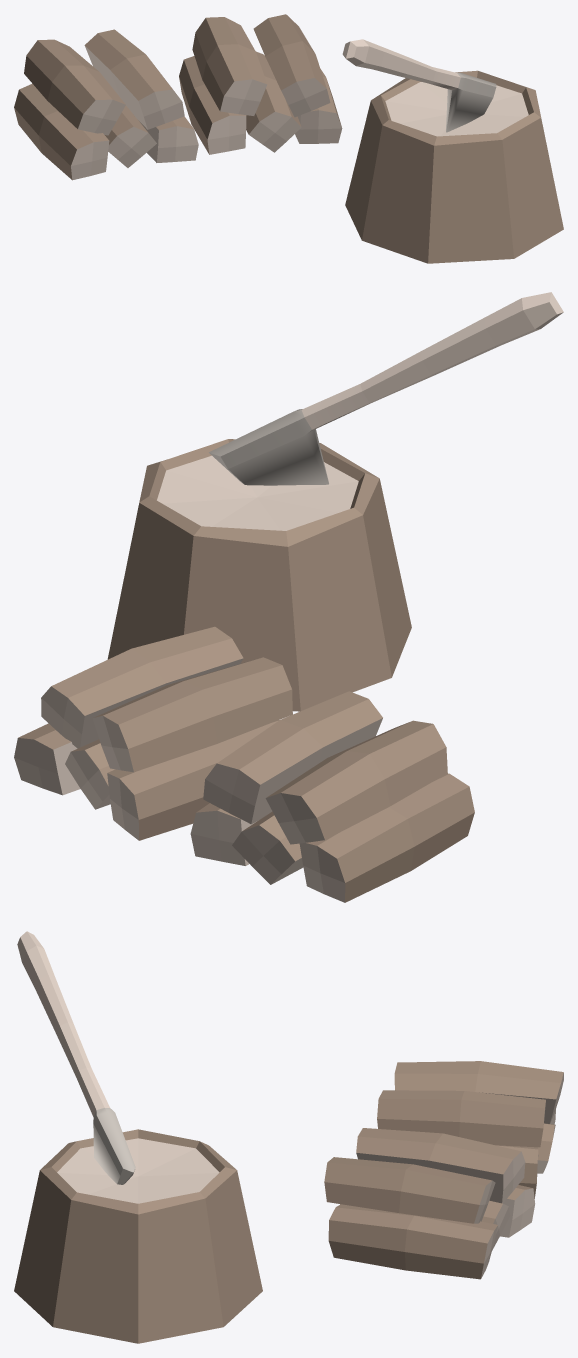
File: fireWoodPile.fbx
3 views of the same model, one above another, from view 1: azimuth 30°, elevation 25°; view 2: azimuth 150°, elevation 25°; view 3: azimuth 270°, elevation 25° (orthographic). The views are drawn at different scales.
Visible parts, largest first — view 1: pCylinder48, pasted__pCube13, pasted__pCube19, pasted__pCube16, pasted__pCube14, pasted__handle3, pasted__pCube22, pasted__pCube18, pasted__pCube20, pasted__pCube17, pasted__pCube15, pasted__pCube21; view 2: pCylinder48, pasted__handle3, pasted__pCube19, pasted__pCube13, pasted__pCube14, pasted__pCube16, pasted__pCube22, pasted__pCube18, pasted__pCube21, pasted__pCube15, pasted__pCube17, pasted__pCube20; view 3: pCylinder48, pasted__pCube21, pasted__pCube22, pasted__pCube16, pasted__handle3, pasted__pCube19, pasted__pCube13, pasted__pCube18, pasted__pCube17, pasted__pCube20, pasted__pCube15.
Part boxes in pixels (<box>): pCylinder48: <box>345,70,563,263</box>; pasted__pCube13: <box>24,39,125,135</box>; pasted__pCube19: <box>192,17,267,115</box>; pasted__pCube16: <box>84,29,184,129</box>; pasted__pCube14: <box>14,83,109,180</box>; pasted__handle3: <box>342,39,496,132</box>; pasted__pCube22: <box>253,14,330,117</box>; pasted__pCube18: <box>179,56,246,154</box>; pasted__pCube20: <box>246,51,301,152</box>; pasted__pCube17: <box>140,116,198,162</box>; pasted__pCube15: <box>105,105,156,167</box>; pasted__pCube21: <box>295,69,342,143</box>; pCylinder48: <box>107,439,411,711</box>; pasted__handle3: <box>209,292,563,485</box>; pasted__pCube19: <box>92,657,292,772</box>; pasted__pCube13: <box>265,720,447,844</box>; pasted__pCube14: <box>299,773,474,902</box>; pasted__pCube16: <box>203,691,382,824</box>; pasted__pCube22: <box>41,626,243,748</box>; pasted__pCube18: <box>107,720,279,840</box>; pasted__pCube21: <box>14,723,80,795</box>; pasted__pCube15: <box>232,811,303,884</box>; pasted__pCube17: <box>190,803,256,865</box>; pasted__pCube20: <box>65,739,114,809</box>; pCylinder48: <box>14,1129,262,1343</box>; pasted__pCube21: <box>328,1204,497,1279</box>; pasted__pCube22: <box>324,1157,495,1223</box>; pasted__pCube16: <box>377,1090,545,1147</box>; pasted__handle3: <box>17,931,135,1184</box>; pasted__pCube19: <box>356,1128,525,1203</box>; pasted__pCube13: <box>394,1061,563,1123</box>; pasted__pCube18: <box>500,1185,535,1237</box>; pasted__pCube17: <box>496,1145,538,1198</box>; pasted__pCube20: <box>340,1200,510,1250</box>; pasted__pCube15: <box>537,1123,555,1173</box>.
Bounding box in the file's own units: 1.82 × 1.18 × 2.14.
